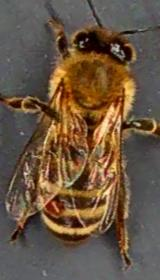varroa_mite: (41, 186, 67, 222)
